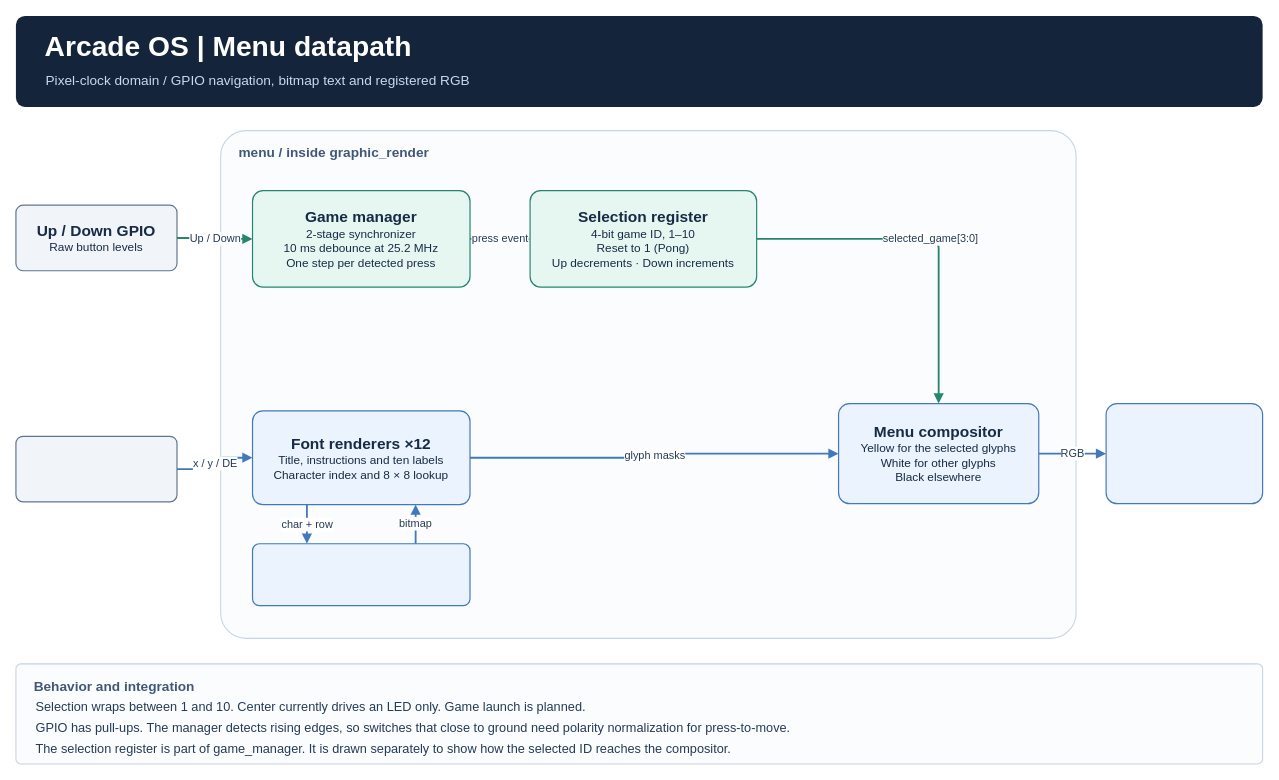
Some shapes in this 1279 by 780 pixel diagram are drawn without their labels. Each missing label, with the centre of its shape:
"Font ROM Character + row → 8-bit bitmap One instance per font renderer" goes at (361,574).
"Raster inputs x, y and active video (DE)" goes at (96,468).
"RGB registers 24-bit RGB output To DVI transmitter" goes at (1184,453).
